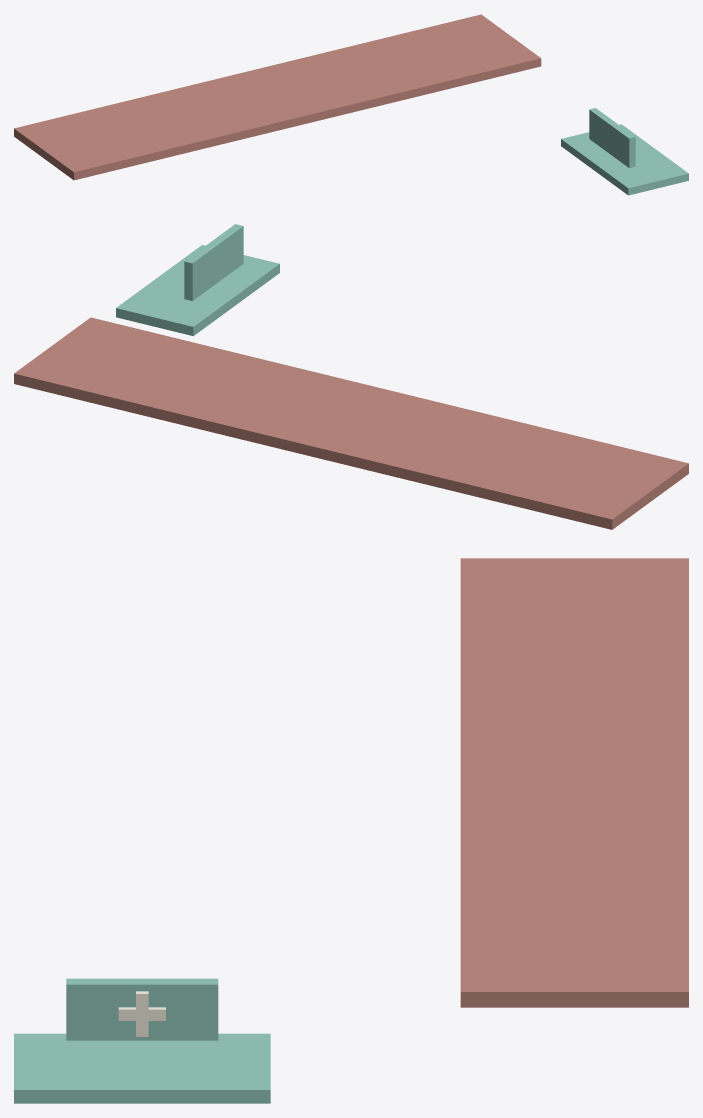
Rendered from clinic-exterior.glb.
The picture shows the model from 3 angles, top to bottom: view 1: azimuth 30°, elevation 25°; view 2: azimuth 150°, elevation 25°; view 3: azimuth 270°, elevation 25°; orthographic projection. The views are drawn at different scales.
Visible parts, largest first — view 1: clinic rear roof, clinic sign; view 2: clinic rear roof, clinic sign; view 3: clinic rear roof, clinic sign, vet cross across.
Boxes of the visible parts, <box> form: clinic rear roof: <box>14,14,541,180</box>; clinic sign: <box>561,108,688,195</box>; clinic rear roof: <box>14,317,688,529</box>; clinic sign: <box>116,224,279,336</box>; clinic rear roof: <box>460,558,688,1007</box>; clinic sign: <box>14,978,270,1103</box>; vet cross across: <box>118,991,165,1036</box>.
Size of the model in its own units: 11.5 by 0.97 by 7.1.
